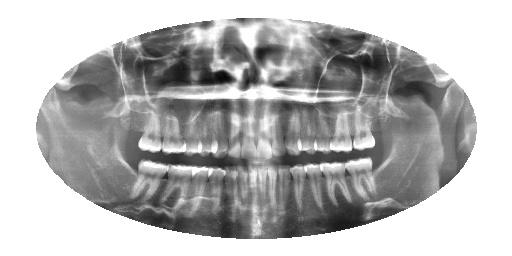Cavity: (226, 162, 239, 206), (238, 162, 250, 206)
Fillings: (166, 162, 199, 213), (191, 164, 214, 217)
